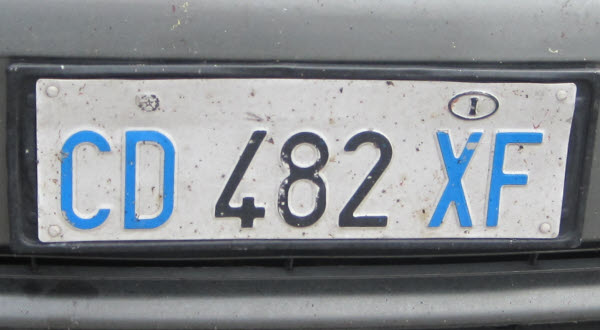license_plate: (36, 78, 576, 241)
